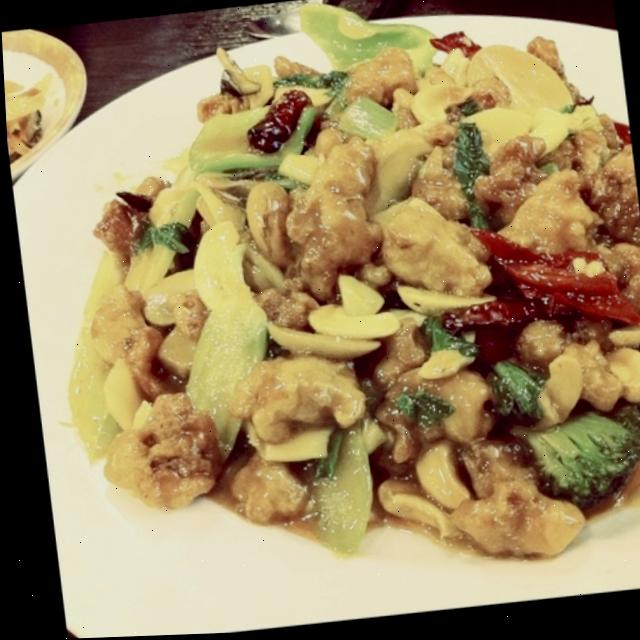鸡肉料理 含炸鸡: (6, 0, 640, 626)
